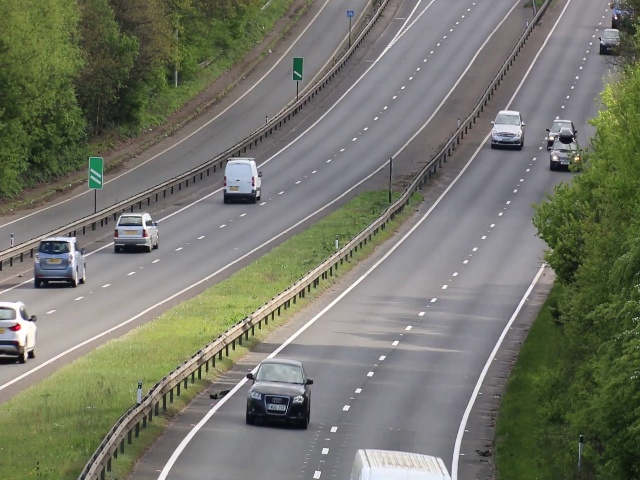car: (245, 357, 311, 429), (34, 237, 86, 285), (1, 300, 39, 363), (222, 157, 263, 203), (114, 212, 159, 252), (490, 109, 526, 149), (550, 139, 572, 170)
